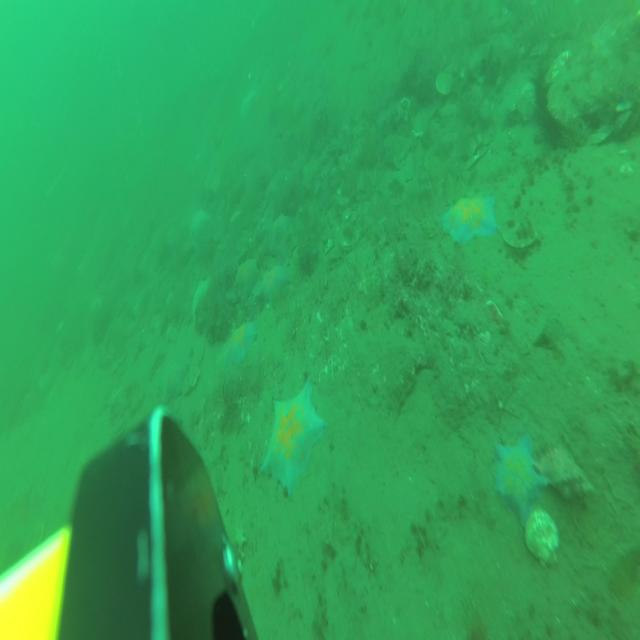echinus: (530, 68, 558, 110), (544, 104, 568, 146)
holothurian: (148, 350, 166, 382)
scallop: (526, 510, 562, 563), (504, 220, 538, 251), (336, 226, 358, 251), (436, 70, 456, 94)
starfish: (260, 380, 326, 498), (493, 434, 547, 530), (437, 194, 497, 247), (218, 319, 255, 375), (264, 165, 294, 218), (254, 265, 288, 309), (159, 359, 188, 409), (234, 255, 259, 301), (190, 277, 211, 328), (273, 213, 293, 248)
